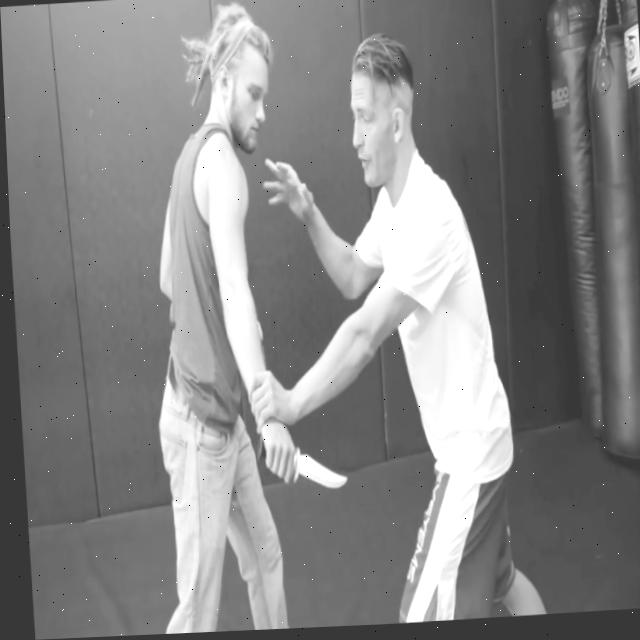knife: (285, 445, 342, 492)
